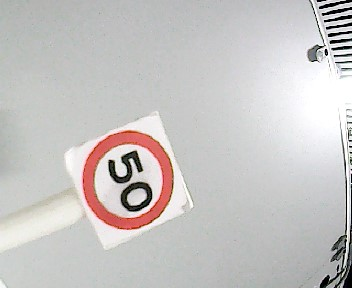50-bord: (80, 126, 176, 232)
